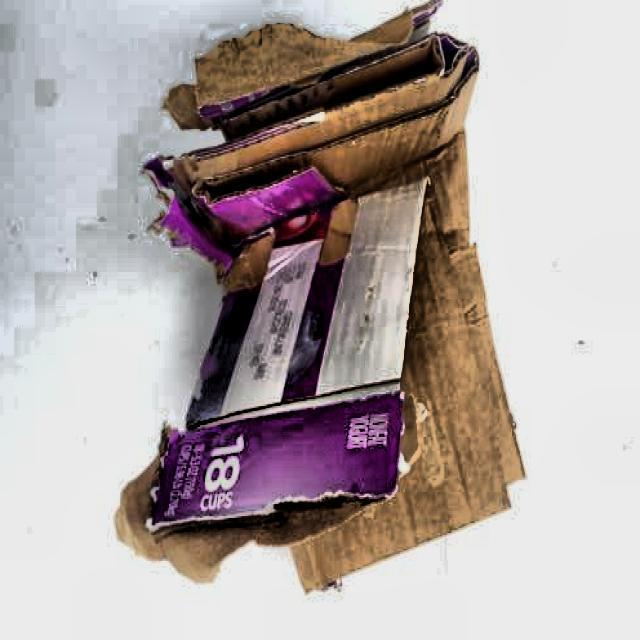cardboard: (133, 0, 528, 597)
